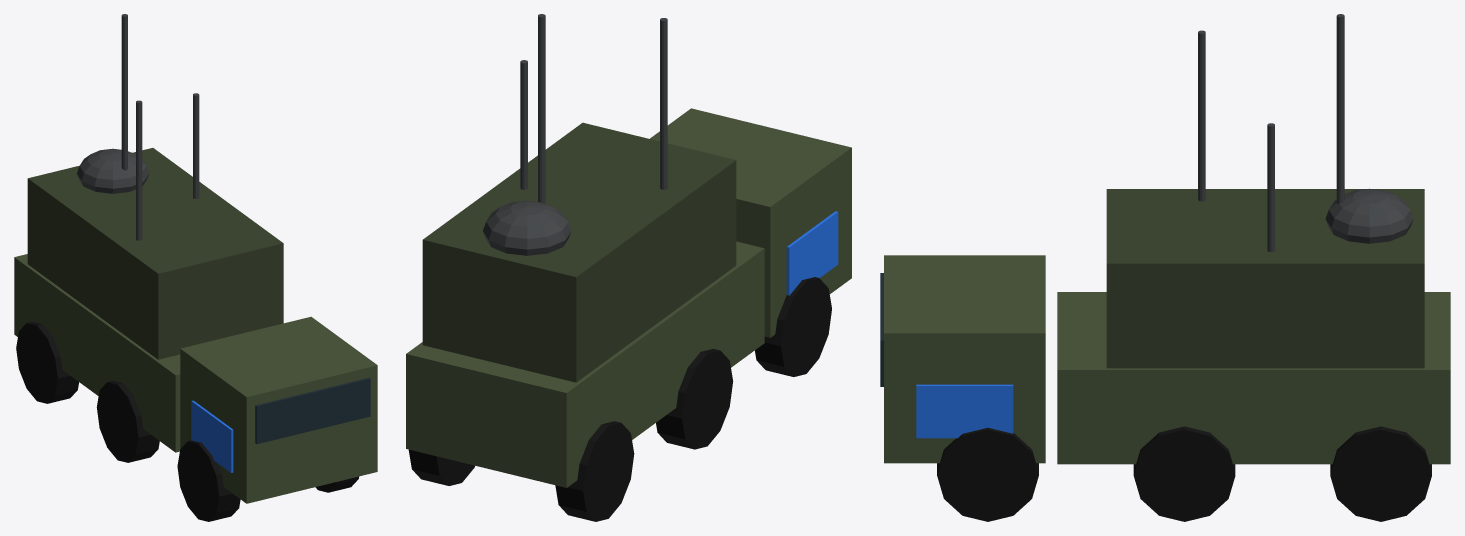
The model's file is kp_ew_vehicle.glb.
The picture shows the model from 3 angles, left to right: view 1: azimuth 30°, elevation 25°; view 2: azimuth 150°, elevation 25°; view 3: azimuth 270°, elevation 25°; orthographic projection. The views are drawn at different scales.
Visible parts, largest first — view 1: ew_shelter, cab, body, windshield, wheel_l2, wheel_l1, wheel_l0, ew_dome, team_door_l, antenna_2, antenna_0, antenna_1; view 2: ew_shelter, body, cab, wheel_l2, wheel_l1, wheel_l0, ew_dome, team_door_l, antenna_2, wheel_r2, antenna_0, antenna_1; view 3: ew_shelter, body, cab, wheel_r1, wheel_r2, wheel_r0, team_door_r, ew_dome, antenna_2, antenna_0, antenna_1.
Part boxes in pixels (<box>): ew_shelter: <box>27,148,283,359</box>; cab: <box>180,316,377,503</box>; body: <box>14,254,180,452</box>; windshield: <box>255,378,370,444</box>; wheel_l2: <box>16,321,78,403</box>; wheel_l1: <box>96,381,159,462</box>; wheel_l0: <box>177,440,240,521</box>; ew_dome: <box>77,148,148,193</box>; team_door_l: <box>191,400,233,472</box>; antenna_2: <box>121,14,127,170</box>; antenna_0: <box>136,100,142,240</box>; antenna_1: <box>193,93,199,198</box>; ew_shelter: <box>422,122,736,382</box>; body: <box>406,241,764,487</box>; cab: <box>650,108,851,337</box>; wheel_l2: <box>555,421,634,521</box>; wheel_l1: <box>656,349,733,449</box>; wheel_l0: <box>755,277,831,376</box>; ew_dome: <box>483,200,571,255</box>; team_door_l: <box>786,211,838,295</box>; antenna_2: <box>538,14,545,203</box>; wheel_r2: <box>408,449,474,485</box>; antenna_0: <box>660,18,667,189</box>; antenna_1: <box>520,60,527,189</box>; ew_shelter: <box>1106,189,1424,368</box>; body: <box>1057,292,1450,464</box>; cab: <box>884,255,1045,463</box>; wheel_r1: <box>1133,426,1235,521</box>; wheel_r2: <box>1330,426,1431,521</box>; wheel_r0: <box>937,427,1038,521</box>; team_door_r: <box>916,384,1013,438</box>; ew_dome: <box>1325,188,1413,243</box>; antenna_2: <box>1336,14,1344,203</box>; antenna_0: <box>1198,30,1205,201</box>; antenna_1: <box>1267,123,1274,252</box>.
Bounding box in the file's own units: 2.6 × 6.64 × 7.39.
